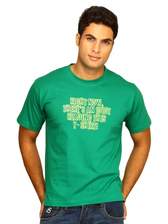clothoes: (16, 61, 156, 208)
